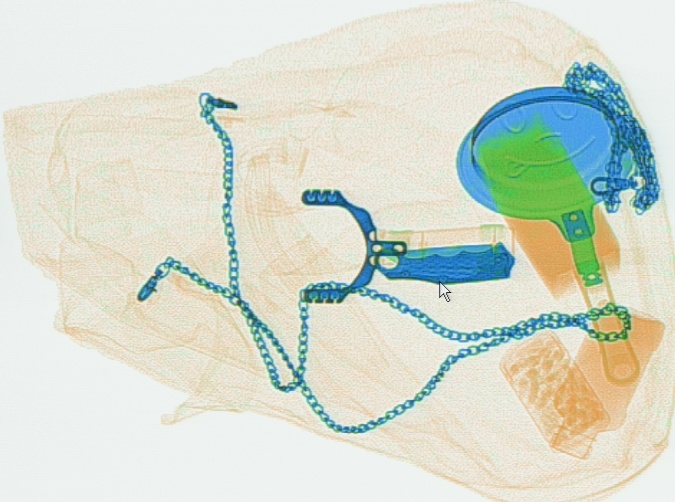knife: (371, 238, 516, 285)
slingshot: (300, 187, 515, 309)
